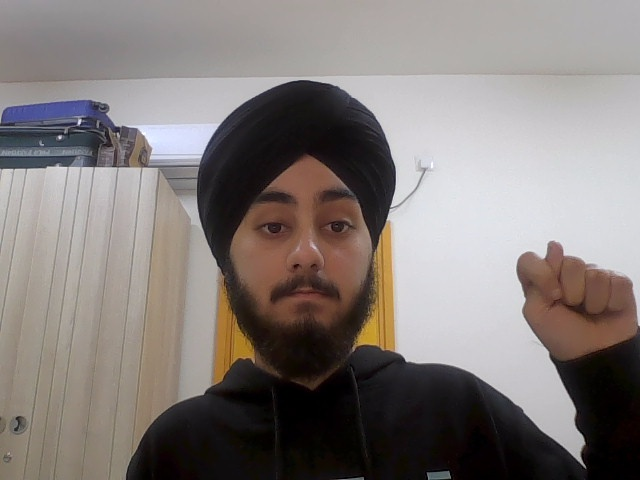Bathroom: (514, 237, 640, 342)
